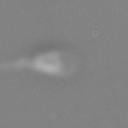normal: (1, 49, 37, 76)
